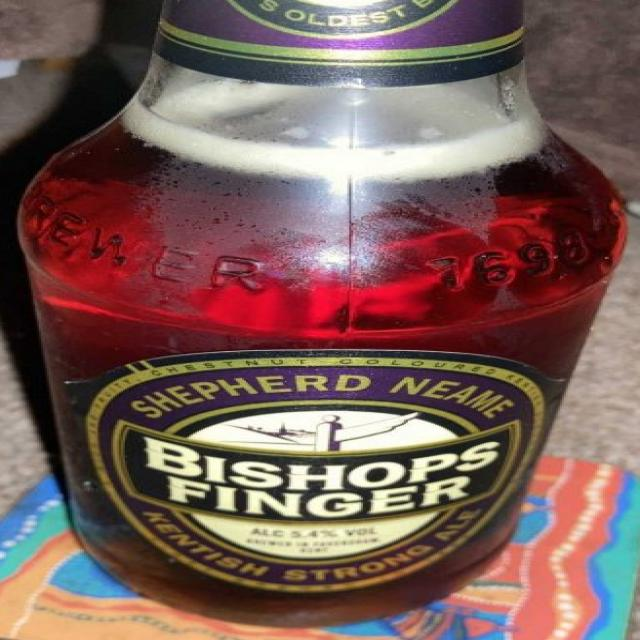Bishops Finger: (2, 1, 640, 640)
